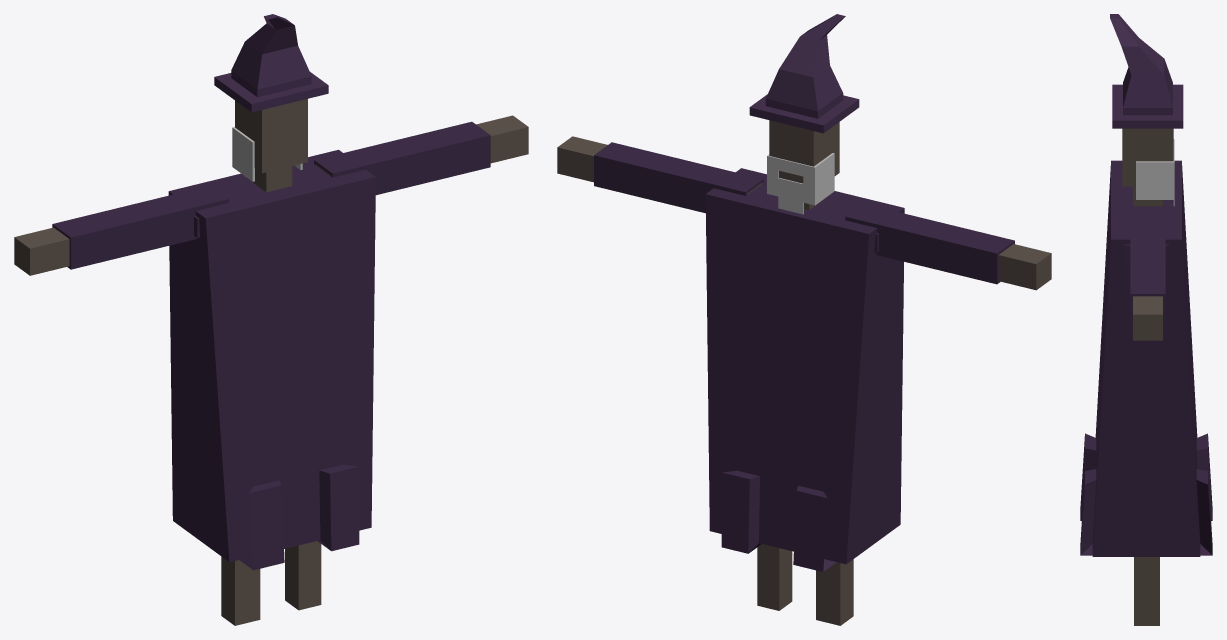
The model's file is Mage.fbx.
The picture shows the model from 3 angles, left to right: view 1: azimuth 30°, elevation 25°; view 2: azimuth 150°, elevation 25°; view 3: azimuth 270°, elevation 25°; orthographic projection. The views are drawn at different scales.
Parts seen in each view (by area): view 1: SM_neck5, SM_leftArm8, SM_leftArm7, SM_hat1, SM_head1, SM_beard1, SM_neck6; view 2: SM_neck5, SM_leftArm8, SM_leftArm7, SM_hat1, SM_beard1, SM_head1; view 3: SM_neck5, SM_hat1, SM_leftArm7, SM_head1, SM_beard1, SM_neck6, SM_neck7.
Part boxes in pixels (x1=…): SM_neck5: x1=168, y1=149, x2=375, y2=625; SM_leftArm8: x1=14, y1=185, x2=228, y2=275; SM_leftArm7: x1=314, y1=115, x2=528, y2=195; SM_hat1: x1=214, y1=14, x2=328, y2=112; SM_head1: x1=235, y1=99, x2=307, y2=173; SM_beard1: x1=232, y1=127, x2=302, y2=181; SM_neck6: x1=251, y1=166, x2=292, y2=192; SM_neck5: x1=705, y1=168, x2=904, y2=625; SM_leftArm8: x1=845, y1=203, x2=1051, y2=290; SM_leftArm7: x1=557, y1=136, x2=763, y2=213; SM_hat1: x1=749, y1=14, x2=859, y2=133; SM_beard1: x1=767, y1=153, x2=834, y2=214; SM_head1: x1=769, y1=120, x2=839, y2=183; SM_neck5: x1=1080, y1=160, x2=1212, y2=625; SM_hat1: x1=1110, y1=14, x2=1183, y2=128; SM_leftArm7: x1=1130, y1=220, x2=1165, y2=340; SM_head1: x1=1122, y1=128, x2=1173, y2=186; SM_beard1: x1=1136, y1=139, x2=1174, y2=206; SM_neck6: x1=1133, y1=186, x2=1162, y2=206; SM_neck7: x1=1124, y1=244, x2=1168, y2=263.
Bounding box in the file's own units: 182 × 213 × 43.9.
